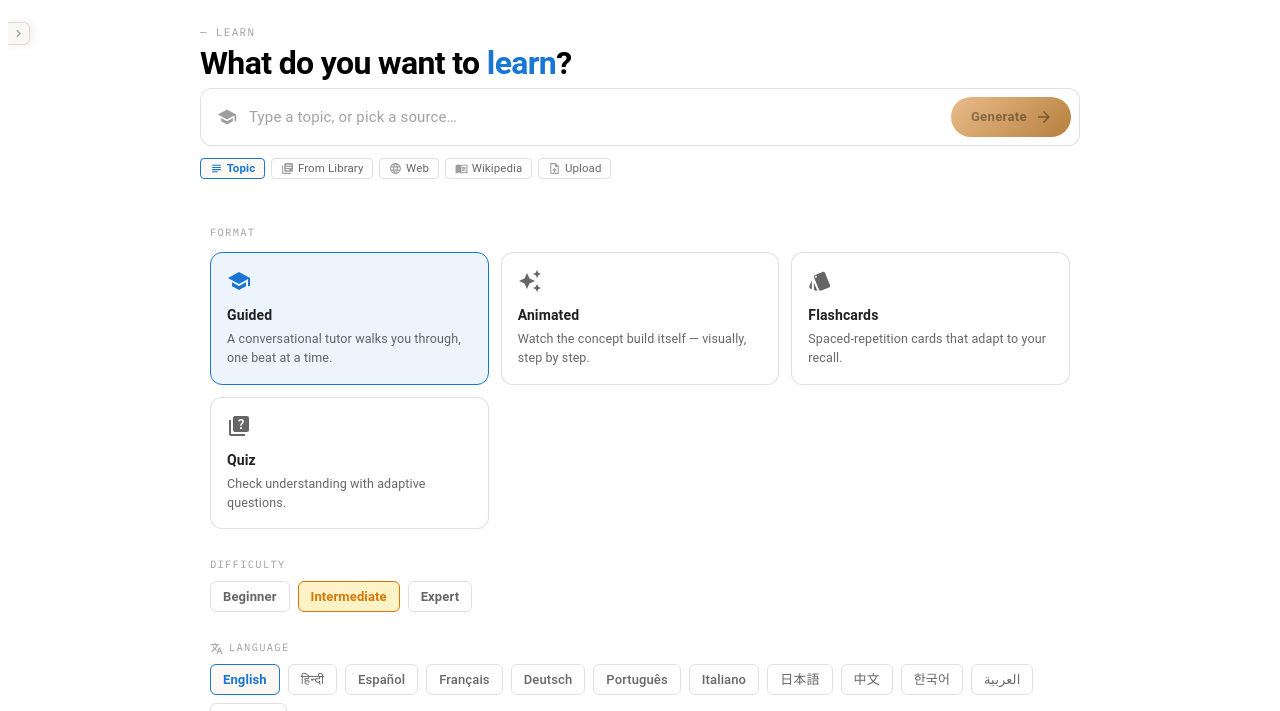
Test case: Generate and streaming › shows XP alert after a done event with xp_earned > 0
Step 1. Type "Gravity" into the field with placeholder "Type a topic, or pick a source…" → (594,117), box [249,106,939,128]
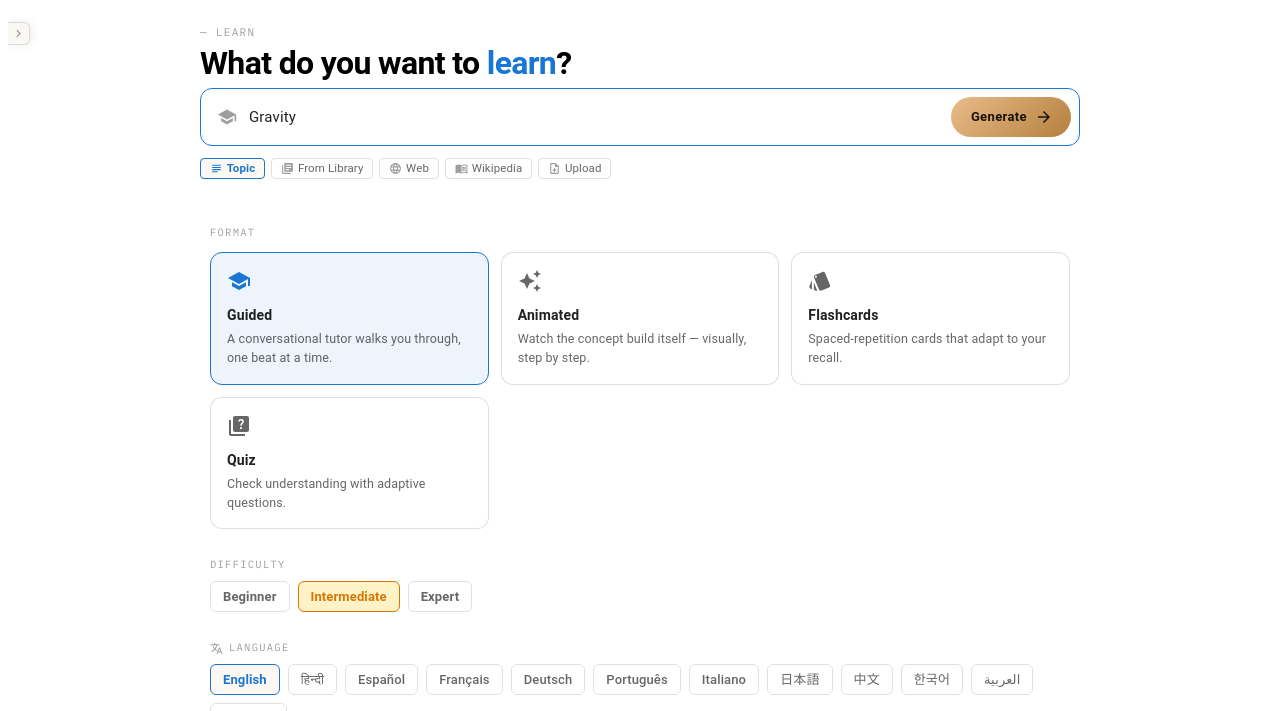
Step 2. Click the button "Generate" → (1011,117), box [951,97,1071,137]
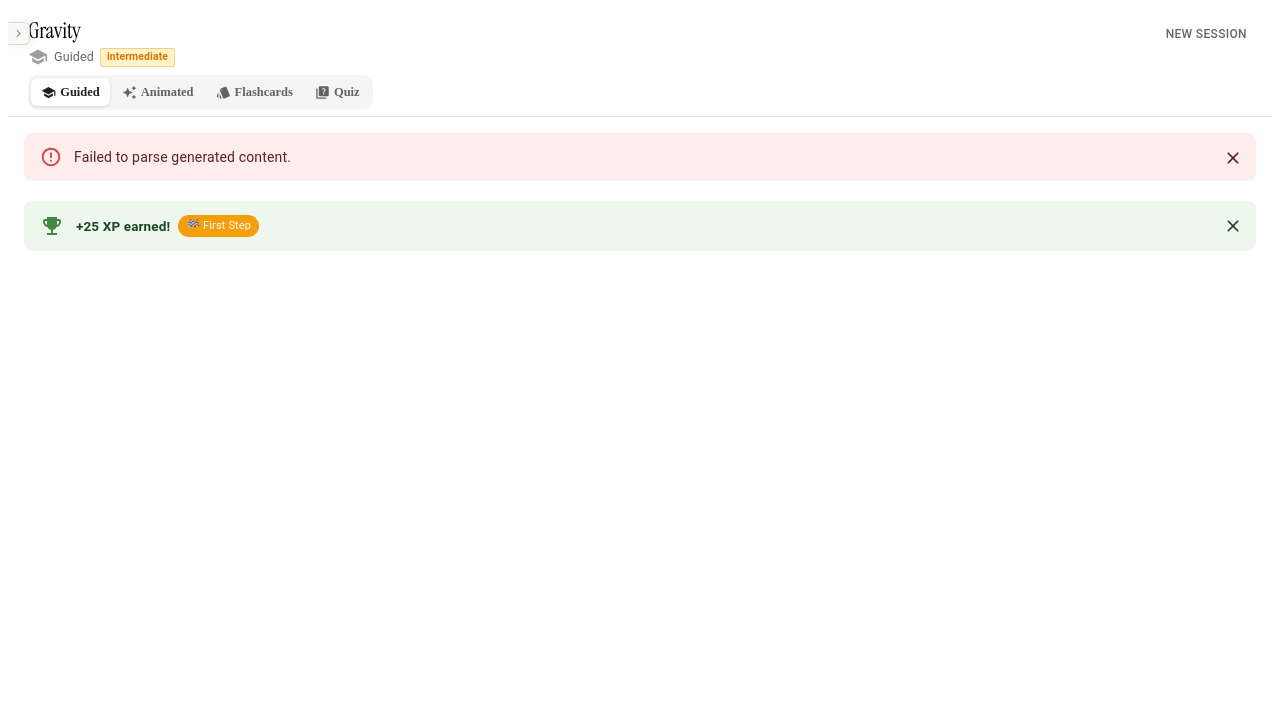
Expected: the text "+25 XP earned!" is shown, [76,216,170,236]
